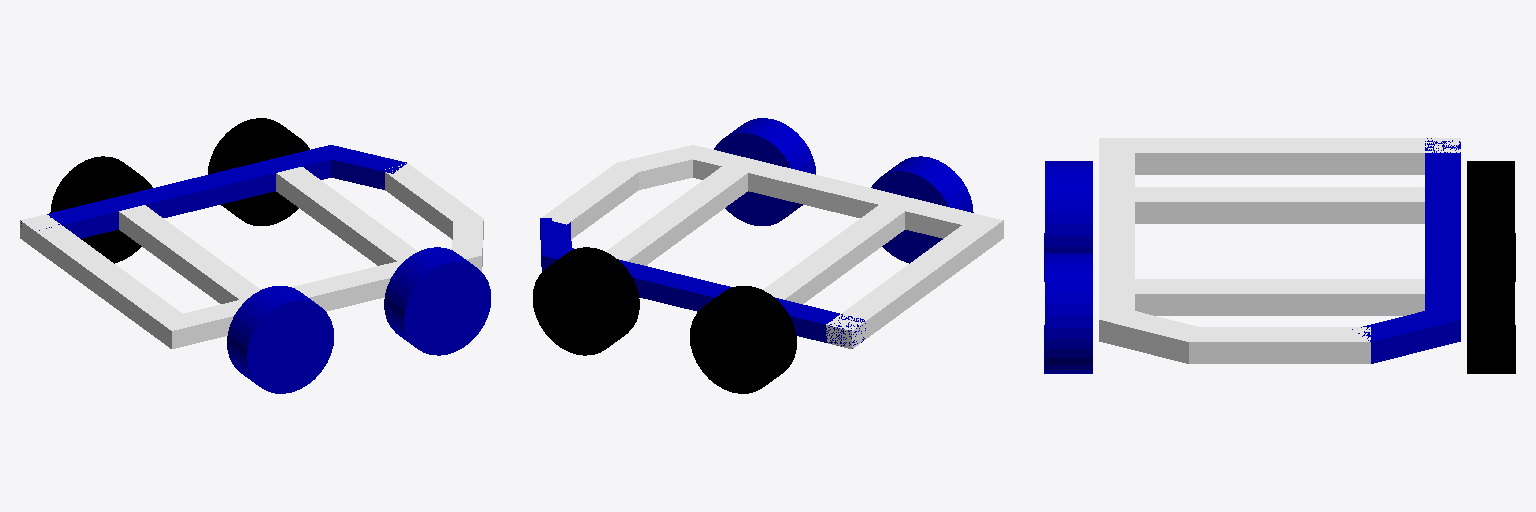
URDF robot description (GUELADAN):
<?xml version="1.0" ?>
<!-- =================================================================================== -->
<!-- |    This document was autogenerated by xacro from chassis.urdf.xacro             | -->
<!-- |    EDITING THIS FILE BY HAND IS NOT RECOMMENDED                                 | -->
<!-- =================================================================================== -->
<robot name="GUELADAN">
  <!-- Specify some standard inertial calculations https://en.wikipedia.org/wiki/List_of_moments_of_inertia -->
  <!-- These make use of xacro's mathematical functionality -->
  <material name="blue">
    <color rgba="0 0 0.8 1"/>
  </material>
  <material name="black">
    <color rgba="0 0 0 1"/>
  </material>
  <material name="white">
    <color rgba="1 1 1 1"/>
  </material>
  <link name="base_link"/>
  <joint name="base_join" type="fixed">
    <parent link="base_link"/>
    <child link="chassis_link_back"/>
    <origin rpy="0 0 0" xyz="-0.325 0 0"/>
  </joint>
  <link name="chassis_link_back">
    <visual>
      <geometry>
        <box size="0.06 0.6 0.04"/>
      </geometry>
      <origin rpy="0 0 0" xyz="0 0 0"/>
      <material name="white"/>
    </visual>
    <collision>
      <geometry>
        <box size="0.06 0.6 0.04"/>
      </geometry>
      <origin rpy="0 0 0" xyz="0 0 0"/>
    </collision>
    <inertial>
      <origin rpy="0 0 0" xyz="0 0 0"/>
      <mass value="1.8"/>
      <inertia ixx="0.05424" ixy="0.0" ixz="0.0" iyy="0.00078" iyz="0.0" izz="0.05454"/>
    </inertial>
  </link>
  <joint name="base_link_right_joint" type="fixed">
    <parent link="base_link"/>
    <child link="chassis_link_right"/>
    <origin rpy="0 0 0" xyz="0 -0.27 0"/>
  </joint>
  <joint name="base_link_left_joint" type="fixed">
    <parent link="base_link"/>
    <child link="chassis_link_left"/>
    <origin rpy="0 0 0" xyz="0 0.27 0"/>
  </joint>
  <link name="chassis_link_right">
    <visual>
      <geometry>
        <box size="0.71 0.06 0.04"/>
      </geometry>
      <origin rpy="0 0 0" xyz="0 0 0"/>
      <material name="white"/>
    </visual>
    <collision>
      <geometry>
        <box size="0.71 0.06 0.04"/>
      </geometry>
      <origin rpy="0 0 0" xyz="0 0 0"/>
      <material name="white"/>
    </collision>
    <inertial>
      <origin rpy="0 0 0" xyz="0 0 0"/>
      <mass value="2.13"/>
      <inertia ixx="0.0009229999999999999" ixy="0.0" ixz="0.0" iyy="0.08976175" iyz="0.0" izz="0.09011675000000001"/>
    </inertial>
  </link>
  <link name="chassis_link_left">
    <visual>
      <geometry>
        <box size="0.71 0.06 0.04"/>
      </geometry>
      <origin rpy="0 0 0" xyz="0 0 0"/>
      <material name="blue"/>
    </visual>
    <collision>
      <geometry>
        <box size="0.71 0.06 0.04"/>
      </geometry>
      <origin rpy="0 0 0" xyz="0 0 0"/>
      <material name="blue"/>
    </collision>
    <inertial>
      <origin rpy="0 0 0" xyz="0 0 0"/>
      <mass value="2.13"/>
      <inertia ixx="0.029039000000000002" ixy="0.0" ixz="0.0" iyy="0.11787775" iyz="0.0" izz="0.09011675000000001"/>
    </inertial>
  </link>
  <joint name="base_link_right_oblic_joint" type="fixed">
    <parent link="base_link"/>
    <child link="chassis_link_right_oblic"/>
    <origin rpy="0 0 -2.11" xyz="0.375 -0.21 0"/>
  </joint>
  <joint name="base_link_left_oblic_joint" type="fixed">
    <parent link="base_link"/>
    <child link="chassis_link_left_oblic"/>
    <origin rpy="0 0 2.11" xyz="0.375 0.21 0"/>
  </joint>
  <joint name="base_link_front_joint" type="fixed">
    <parent link="base_link"/>
    <child link="chassis_link_front"/>
    <origin rpy="0 0 0" xyz="0.415 0 0"/>
  </joint>
  <joint name="chassis_link_2_joint" type="fixed">
    <parent link="base_link"/>
    <child link="chassis_link_2"/>
    <origin rpy="0 0 0" xyz="0.2254 0 0"/>
  </joint>
  <joint name="chassis_link_1_joint" type="fixed">
    <parent link="base_link"/>
    <child link="chassis_link_1"/>
    <origin rpy="0 0 0" xyz="-0.1346 0 0"/>
  </joint>
  <link name="chassis_link_left_oblic">
    <visual>
      <geometry>
        <box size="0.175 0.06 0.04"/>
      </geometry>
      <origin rpy="0 0 0" xyz="0 0 0"/>
      <material name="blue"/>
    </visual>
    <collision>
      <geometry>
        <box size="0.175 0.06 0.04"/>
      </geometry>
      <origin rpy="0 0 0" xyz="0 0 0"/>
      <material name="blue"/>
    </collision>
    <inertial>
      <origin rpy="0 0 0" xyz="0 0 0"/>
      <mass value="0.525"/>
      <inertia ixx="0.00022749999999999997" ixy="0.0" ixz="0.0" iyy="0.0014098437499999999" iyz="0.0" izz="0.0014973437499999998"/>
    </inertial>
  </link>
  <link name="chassis_link_right_oblic">
    <visual>
      <geometry>
        <box size="0.175 0.06 0.04"/>
      </geometry>
      <origin rpy="0 0 0" xyz="0 0 0"/>
      <material name="white"/>
    </visual>
    <collision>
      <geometry>
        <box size="0.175 0.06 0.04"/>
      </geometry>
      <origin rpy="0 0 0" xyz="0 0 0"/>
      <material name="white"/>
    </collision>
    <inertial>
      <origin rpy="0 0 0" xyz="0 0 0"/>
      <mass value="0.525"/>
      <inertia ixx="0.007157500000000001" ixy="0.0" ixz="0.0" iyy="0.008339843750000001" iyz="0.0" izz="0.0014973437499999998"/>
    </inertial>
  </link>
  <link name="chassis_link_front">
    <visual>
      <geometry>
        <box size="0.06 0.3 0.04"/>
      </geometry>
      <origin rpy="0 0 0" xyz="0 0 0"/>
      <material name="white"/>
    </visual>
    <collision>
      <geometry>
        <box size="0.06 0.3 0.04"/>
      </geometry>
      <origin rpy="0 0 0" xyz="0 0 0"/>
      <material name="white"/>
    </collision>
    <inertial>
      <origin rpy="0 0 0" xyz="0 0 0"/>
      <mass value="0.9"/>
      <inertia ixx="0.00687" ixy="0.0" ixz="0.0" iyy="0.00039" iyz="0.0" izz="0.00702"/>
    </inertial>
  </link>
  <link name="chassis_link_1">
    <visual>
      <geometry>
        <box size="0.06 0.48 0.04"/>
      </geometry>
      <origin rpy="0 0 0" xyz="0 0 0"/>
      <material name="white"/>
    </visual>
    <collision>
      <geometry>
        <box size="0.06 0.48 0.04"/>
      </geometry>
      <origin rpy="0 0 0" xyz="0 0 0"/>
      <material name="white"/>
    </collision>
    <inertial>
      <origin rpy="0 0 0" xyz="0 0 0"/>
      <mass value="0.9"/>
      <inertia ixx="0.00687" ixy="0.0" ixz="0.0" iyy="0.00039" iyz="0.0" izz="0.00702"/>
    </inertial>
  </link>
  <link name="chassis_link_2">
    <visual>
      <geometry>
        <box size="0.06 0.48 0.04"/>
      </geometry>
      <origin rpy="0 0 0" xyz="0 0 0"/>
      <material name="white"/>
    </visual>
    <collision>
      <geometry>
        <box size="0.06 0.48 0.04"/>
      </geometry>
      <origin rpy="0 0 0" xyz="0 0 0"/>
      <material name="white"/>
    </collision>
    <inertial>
      <origin rpy="0 0 0" xyz="0 0 0"/>
      <mass value="0.9"/>
      <inertia ixx="0.00687" ixy="0.0" ixz="0.0" iyy="0.00039" iyz="0.0" izz="0.00702"/>
    </inertial>
  </link>
  <link name="back_left_wheel">
    <visual>
      <geometry>
        <cylinder length="0.08" radius="0.1"/>
      </geometry>
      <origin rpy="0 0 0" xyz="0 0 0"/>
      <material name="black"/>
    </visual>
    <collision>
      <geometry>
        <cylinder length="0.08" radius="0.1"/>
      </geometry>
      <origin rpy="0 0 0" xyz="0 0 0"/>
      <material name="black"/>
    </collision>
    <inertial>
      <origin rpy="0 0 0" xyz="0 0 0"/>
      <mass value="0.5"/>
      <inertia ixx="0.00027916666666666666" ixy="0.0" ixz="0.0" iyy="0.00027916666666666666" iyz="0.0" izz="2.5e-05"/>
    </inertial>
  </link>
  <link name="front_left_wheel">
    <visual>
      <geometry>
        <cylinder length="0.08" radius="0.1"/>
      </geometry>
      <origin rpy="0 0 0" xyz="0 0 0"/>
      <material name="black"/>
    </visual>
    <collision>
      <geometry>
        <cylinder length="0.08" radius="0.1"/>
      </geometry>
      <origin rpy="0 0 0" xyz="0 0 0"/>
      <material name="black"/>
    </collision>
    <inertial>
      <origin rpy="0 0 0" xyz="0 0 0"/>
      <mass value="0.5"/>
      <inertia ixx="0.00027916666666666666" ixy="0.0" ixz="0.0" iyy="0.00027916666666666666" iyz="0.0" izz="2.5e-05"/>
    </inertial>
  </link>
  <link name="back_right_wheel">
    <visual>
      <geometry>
        <cylinder length="0.08" radius="0.1"/>
      </geometry>
      <origin rpy="0 0 0" xyz="0 0 0"/>
      <material name="blue"/>
    </visual>
    <collision>
      <geometry>
        <cylinder length="0.08" radius="0.1"/>
      </geometry>
      <origin rpy="0 0 0" xyz="0 0 0"/>
      <material name="blue"/>
    </collision>
    <inertial>
      <origin rpy="0 0 0" xyz="0 0 0"/>
      <mass value="0.5"/>
      <inertia ixx="0.00027916666666666666" ixy="0.0" ixz="0.0" iyy="0.00027916666666666666" iyz="0.0" izz="2.5e-05"/>
    </inertial>
  </link>
  <link name="front_right_wheel">
    <visual>
      <geometry>
        <cylinder length="0.08" radius="0.1"/>
      </geometry>
      <origin rpy="0 0 0" xyz="0 0 0"/>
      <material name="blue"/>
    </visual>
    <collision>
      <geometry>
        <cylinder length="0.08" radius="0.1"/>
      </geometry>
      <origin rpy="0 0 0" xyz="0 0 0"/>
      <material name="blue"/>
    </collision>
    <inertial>
      <origin rpy="0 0 0" xyz="0 0 0"/>
      <mass value="0.5"/>
      <inertia ixx="0.00027916666666666666" ixy="0.0" ixz="0.0" iyy="0.00027916666666666666" iyz="0.0" izz="2.5e-05"/>
    </inertial>
  </link>
  <joint name="front_right_wheel_joint" type="continuous">
    <parent link="base_link"/>
    <child link="front_right_wheel"/>
    <origin rpy="1.57 0 0" xyz="0.2254 -0.35 -0.03"/>
    <axis xyz="0 0 -1"/>
  </joint>
  <transmission name="front_right_wheel_trans">
    <type>transmission_interface/SimpleTransmission</type>
    <actuator name="front_right_wheel_motor">
      <mechanicalReduction>1</mechanicalReduction>
    </actuator>
    <joint name="front_right_wheel_joint">
      <hardwareInterface>hardware_interface/VelocityJointInterface</hardwareInterface>
    </joint>
  </transmission>
  <joint name="back_right_wheel_joint" type="continuous">
    <parent link="base_link"/>
    <child link="back_right_wheel"/>
    <origin rpy="1.57 0 0" xyz="-0.1346 -0.35 -0.03"/>
    <axis xyz="0 0 -1"/>
  </joint>
  <transmission name="back_right_wheel_trans">
    <type>transmission_interface/SimpleTransmission</type>
    <actuator name="back_right_wheel_motor">
      <mechanicalReduction>1</mechanicalReduction>
    </actuator>
    <joint name="back_right_wheel_joint">
      <hardwareInterface>hardware_interface/VelocityJointInterface</hardwareInterface>
    </joint>
  </transmission>
  <joint name="front_left_wheel_joint" type="continuous">
    <parent link="base_link"/>
    <child link="front_left_wheel"/>
    <origin rpy="-1.57 0 0" xyz="0.2254 0.35 -0.03"/>
    <axis xyz="0 0 1"/>
  </joint>
  <transmission name="front_left_wheel_trans">
    <type>transmission_interface/SimpleTransmission</type>
    <actuator name="front_left_wheel_motor">
      <mechanicalReduction>1</mechanicalReduction>
    </actuator>
    <joint name="front_left_wheel_joint">
      <hardwareInterface>hardware_interface/VelocityJointInterface</hardwareInterface>
    </joint>
  </transmission>
  <joint name="back_left_wheel_joint" type="continuous">
    <parent link="base_link"/>
    <child link="back_left_wheel"/>
    <origin rpy="-1.57 0 0" xyz="-0.1346 0.35 -0.03"/>
    <axis xyz="0 0 1"/>
  </joint>
  <transmission name="back_left_wheel_trans">
    <type>transmission_interface/SimpleTransmission</type>
    <actuator name="back_left_wheel_motor">
      <mechanicalReduction>1</mechanicalReduction>
    </actuator>
    <joint name="back_left_wheel_joint">
      <hardwareInterface>hardware_interface/VelocityJointInterface</hardwareInterface>
    </joint>
  </transmission>
  <gazebo>
    <plugin filename="libgazebo_ros_control.so" name="gazebo_ros_control">
      <robotNamespace>/</robotNamespace>
    </plugin>
  </gazebo>
  <gazebo reference="back_right_wheel">
    <mu1 value="200.0"/>
    <mu2 value="100.0"/>
    <kp value="10000000.0"/>
    <kd value="1.0"/>
    <material>Gazebo/Grey</material>
  </gazebo>
  <gazebo reference="front_right_wheel">
    <mu1 value="200.0"/>
    <mu2 value="100.0"/>
    <kp value="10000000.0"/>
    <kd value="1.0"/>
    <material>Gazebo/Grey</material>
  </gazebo>
  <gazebo reference="front_left_wheel">
    <mu1 value="200.0"/>
    <mu2 value="100.0"/>
    <kp value="10000000.0"/>
    <kd value="1.0"/>
    <material>Gazebo/Grey</material>
  </gazebo>
  <gazebo reference="back_left_wheel">
    <mu1 value="200.0"/>
    <mu2 value="100.0"/>
    <kp value="10000000.0"/>
    <kd value="1.0"/>
    <material>Gazebo/Grey</material>
  </gazebo>
</robot>

--- What the picture shows (computed from the rendered views, not written in the file) ---
3 views of the same robot in one strip: view 1: azimuth 30°, elevation 25°; view 2: azimuth 150°, elevation 25°; view 3: azimuth 270°, elevation 25° (orthographic).
Robot: GUELADAN — 13 links, 12 joints (4 continuous, 8 fixed); root link base_link; default pose: every joint at zero.
Visible links, largest first — view 1: back_right_wheel, front_right_wheel, chassis_link_left, chassis_link_back, chassis_link_2, chassis_link_1, front_left_wheel, chassis_link_right, back_left_wheel, chassis_link_front, chassis_link_left_oblic, chassis_link_right_oblic; view 2: back_left_wheel, front_left_wheel, chassis_link_right, chassis_link_back, chassis_link_2, chassis_link_1, front_right_wheel, chassis_link_left, back_right_wheel, chassis_link_front, chassis_link_right_oblic, chassis_link_left_oblic; view 3: chassis_link_back, chassis_link_1, chassis_link_2, chassis_link_front, chassis_link_left, chassis_link_right, front_left_wheel, front_right_wheel, back_left_wheel, back_right_wheel, chassis_link_left_oblic, chassis_link_right_oblic.
Boxes of the visible links, x1,y1,x2,y2 form: back_right_wheel: [227, 286, 333, 393]; front_right_wheel: [384, 247, 490, 355]; chassis_link_left: [21, 145, 344, 238]; chassis_link_back: [20, 214, 197, 348]; chassis_link_2: [276, 167, 417, 265]; chassis_link_1: [119, 205, 260, 303]; front_left_wheel: [208, 118, 309, 225]; chassis_link_right: [157, 244, 481, 347]; back_left_wheel: [50, 156, 152, 263]; chassis_link_front: [385, 163, 481, 239]; chassis_link_left_oblic: [320, 145, 406, 189]; chassis_link_right_oblic: [452, 218, 483, 266]; back_left_wheel: [690, 286, 796, 393]; front_left_wheel: [533, 247, 639, 355]; chassis_link_right: [679, 145, 1002, 238]; chassis_link_back: [826, 214, 1003, 348]; chassis_link_2: [606, 167, 747, 265]; chassis_link_1: [763, 205, 904, 303]; front_right_wheel: [714, 118, 815, 225]; chassis_link_left: [542, 244, 865, 348]; back_right_wheel: [871, 156, 973, 263]; chassis_link_front: [542, 163, 638, 239]; chassis_link_right_oblic: [617, 145, 700, 189]; chassis_link_left_oblic: [540, 218, 571, 266]; chassis_link_back: [1099, 138, 1460, 174]; chassis_link_1: [1135, 187, 1424, 223]; chassis_link_2: [1135, 279, 1424, 315]; chassis_link_front: [1189, 327, 1370, 363]; chassis_link_left: [1425, 138, 1460, 318]; chassis_link_right: [1099, 138, 1134, 318]; front_left_wheel: [1467, 253, 1515, 373]; front_right_wheel: [1044, 253, 1092, 373]; back_left_wheel: [1467, 161, 1515, 281]; back_right_wheel: [1044, 161, 1092, 281]; chassis_link_left_oblic: [1352, 306, 1460, 363]; chassis_link_right_oblic: [1099, 306, 1205, 363].
Bounding box of the posed robot: 0.8007 × 0.7802 × 0.2001 m (x, y, z).
Geometry: primitives only (box / cylinder / sphere), no mesh files.
